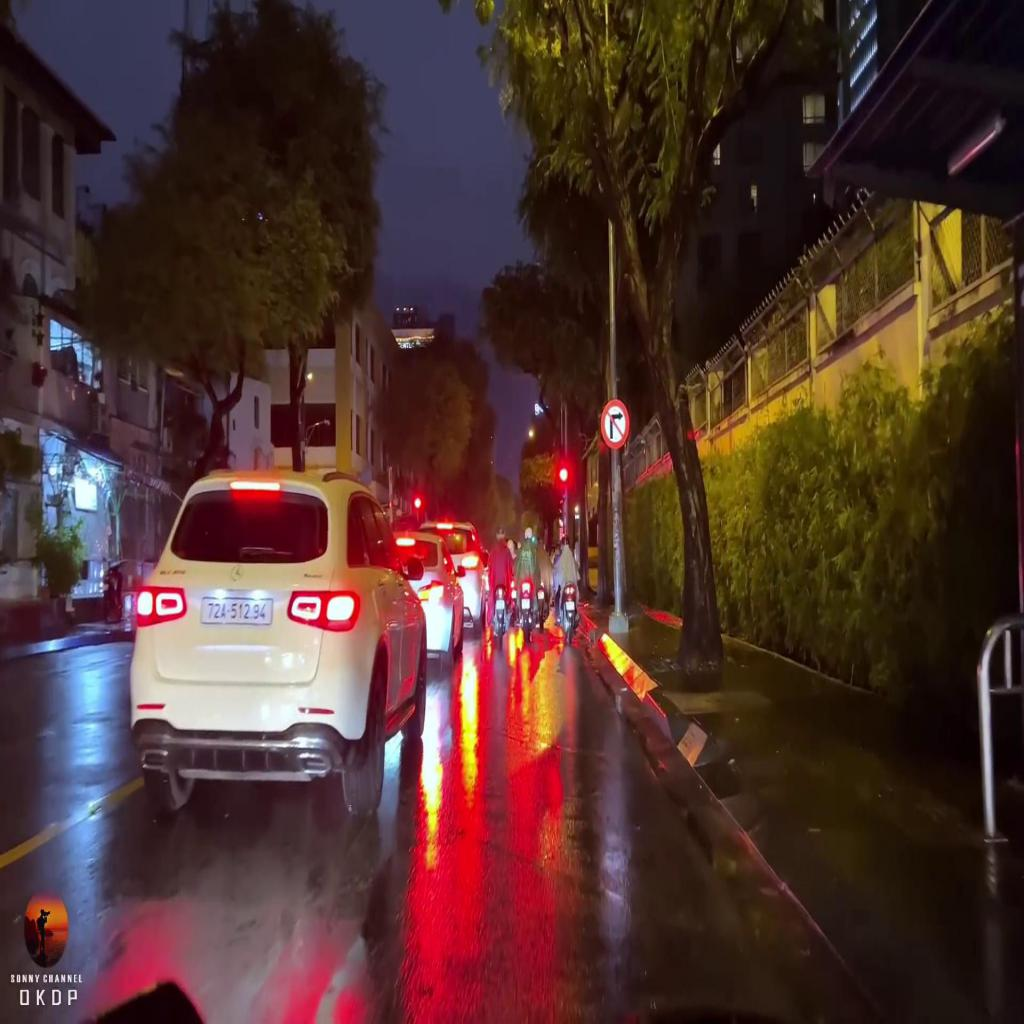cam_re_phai: (602, 401, 628, 449)
